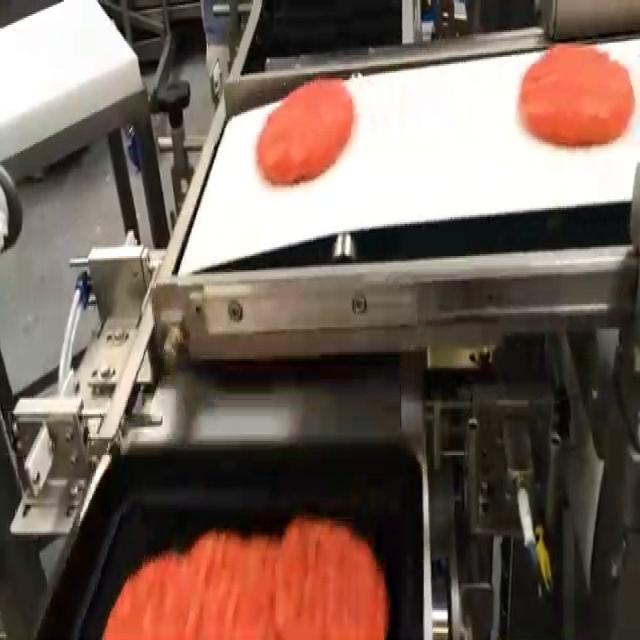4-hamburguer: (102, 516, 389, 638)
